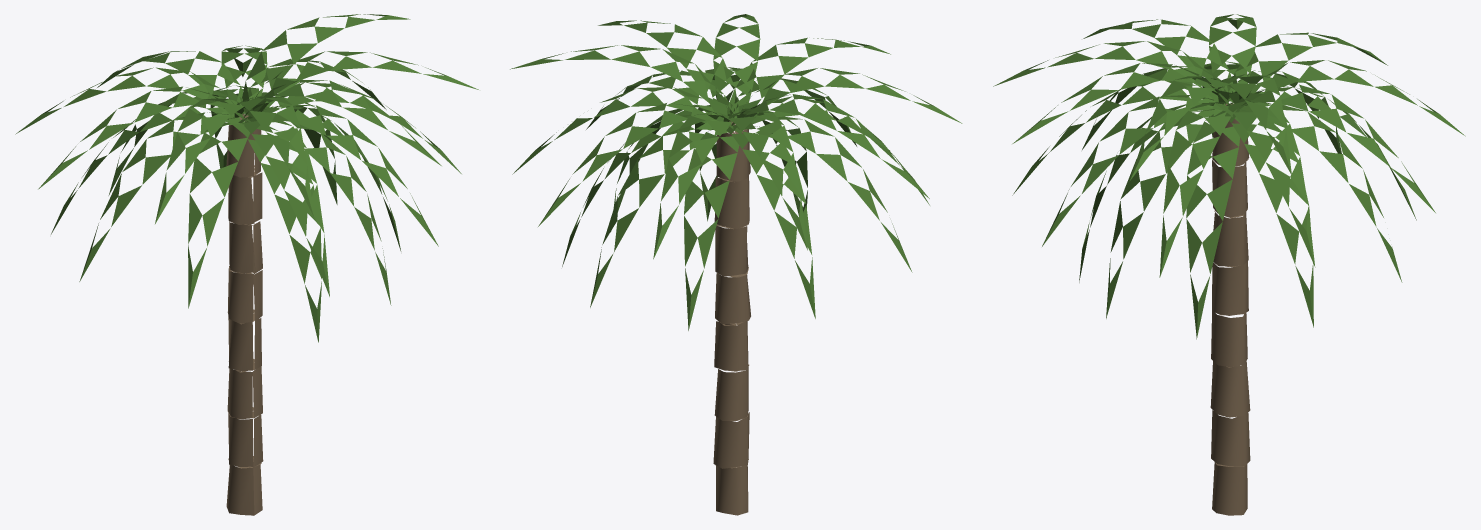
File: palm_date.glb
3 renders of one model, left to right at view 1: azimuth 30°, elevation 25°; view 2: azimuth 150°, elevation 25°; view 3: azimuth 270°, elevation 25°, orthographic. The views are drawn at different scales.
Parts seen in each view (by area): view 1: palm; view 2: palm; view 3: palm.
Boxes of the visible parts, x1,y1,x2,y2 form: palm: (15,14,478,515); palm: (510,14,962,515); palm: (993,14,1465,515).
Size of the model in its own units: 7.57 by 8.19 by 7.52.
